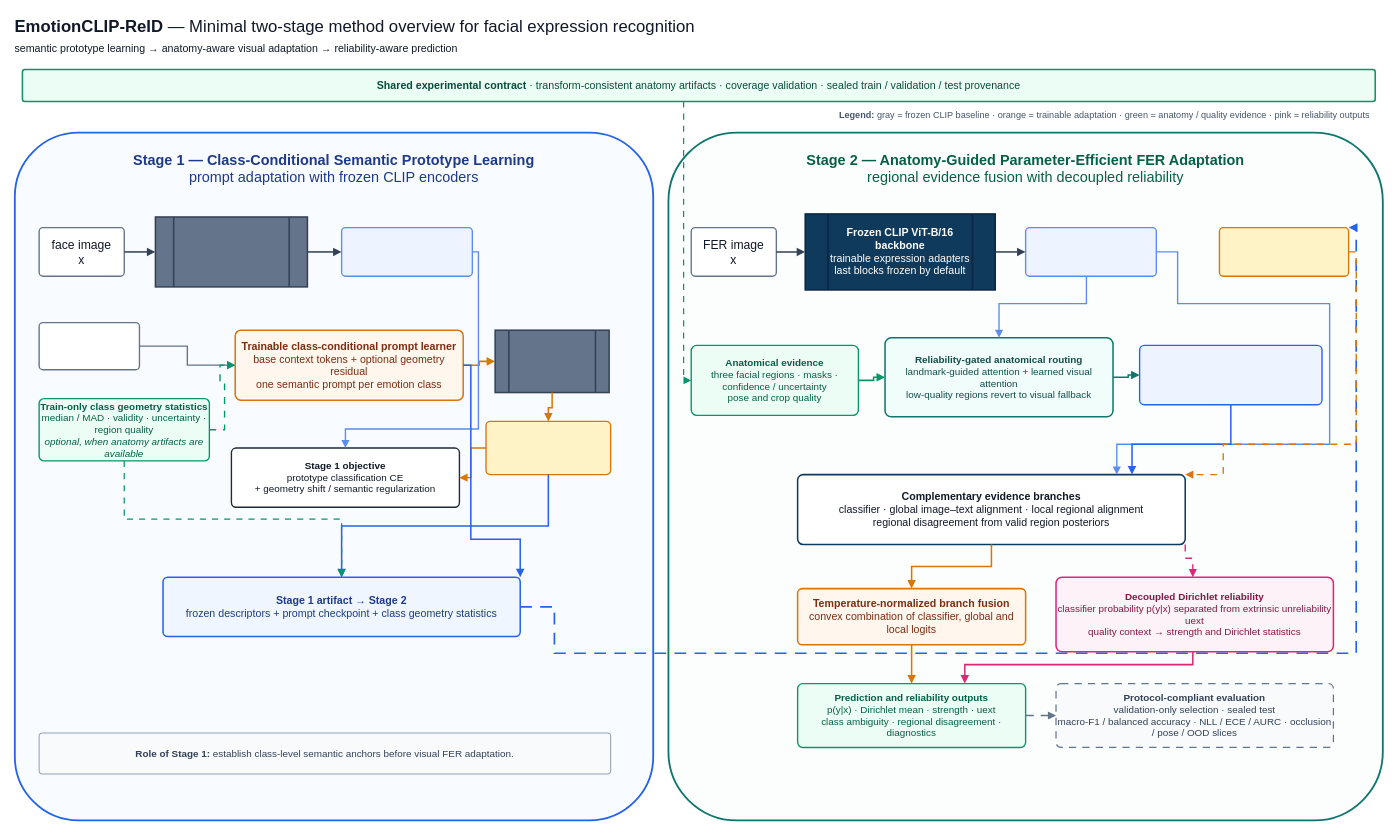
This 1397x834 diagram has some shape labels left out. Each missing label, with the box of its shape:
[Frozen] CLIP image encoder: (154, 216, 308, 287)
[Frozen] CLIP text encoder: (494, 329, 610, 393)
Cached visual feature global representation g: (341, 227, 473, 277)
emotion class y: (38, 322, 140, 370)
Frozen semantic prototypes t₁:C from Stage 1: (1218, 227, 1349, 277)
Regional visual evidence region features + quality weights: (1139, 344, 1322, 405)
Semantic prototypes t₁:C, fixed for Stage 2: (485, 420, 611, 475)
Visual representation global g + patch tokens P: (1025, 227, 1157, 277)
